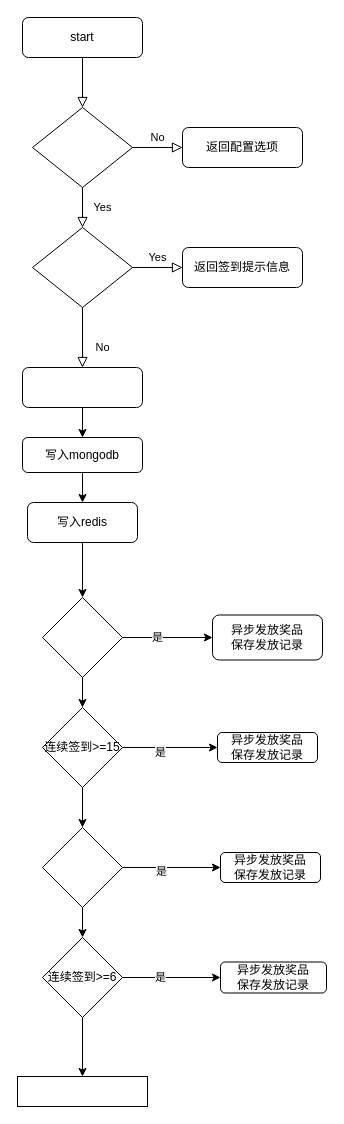
The diagram is 344 pixels wide and 1124 high, and some of its shapes have lost their labels. Each missing label, with the centre of its shape:
end: point 82,1091
是否已签到: point 82,267
签到开关是否开启: point 82,147
计算连续签到天数，签到逻辑: point 82,387
连续签到>=30: point 82,637
连续签到>=7: point 82,867
